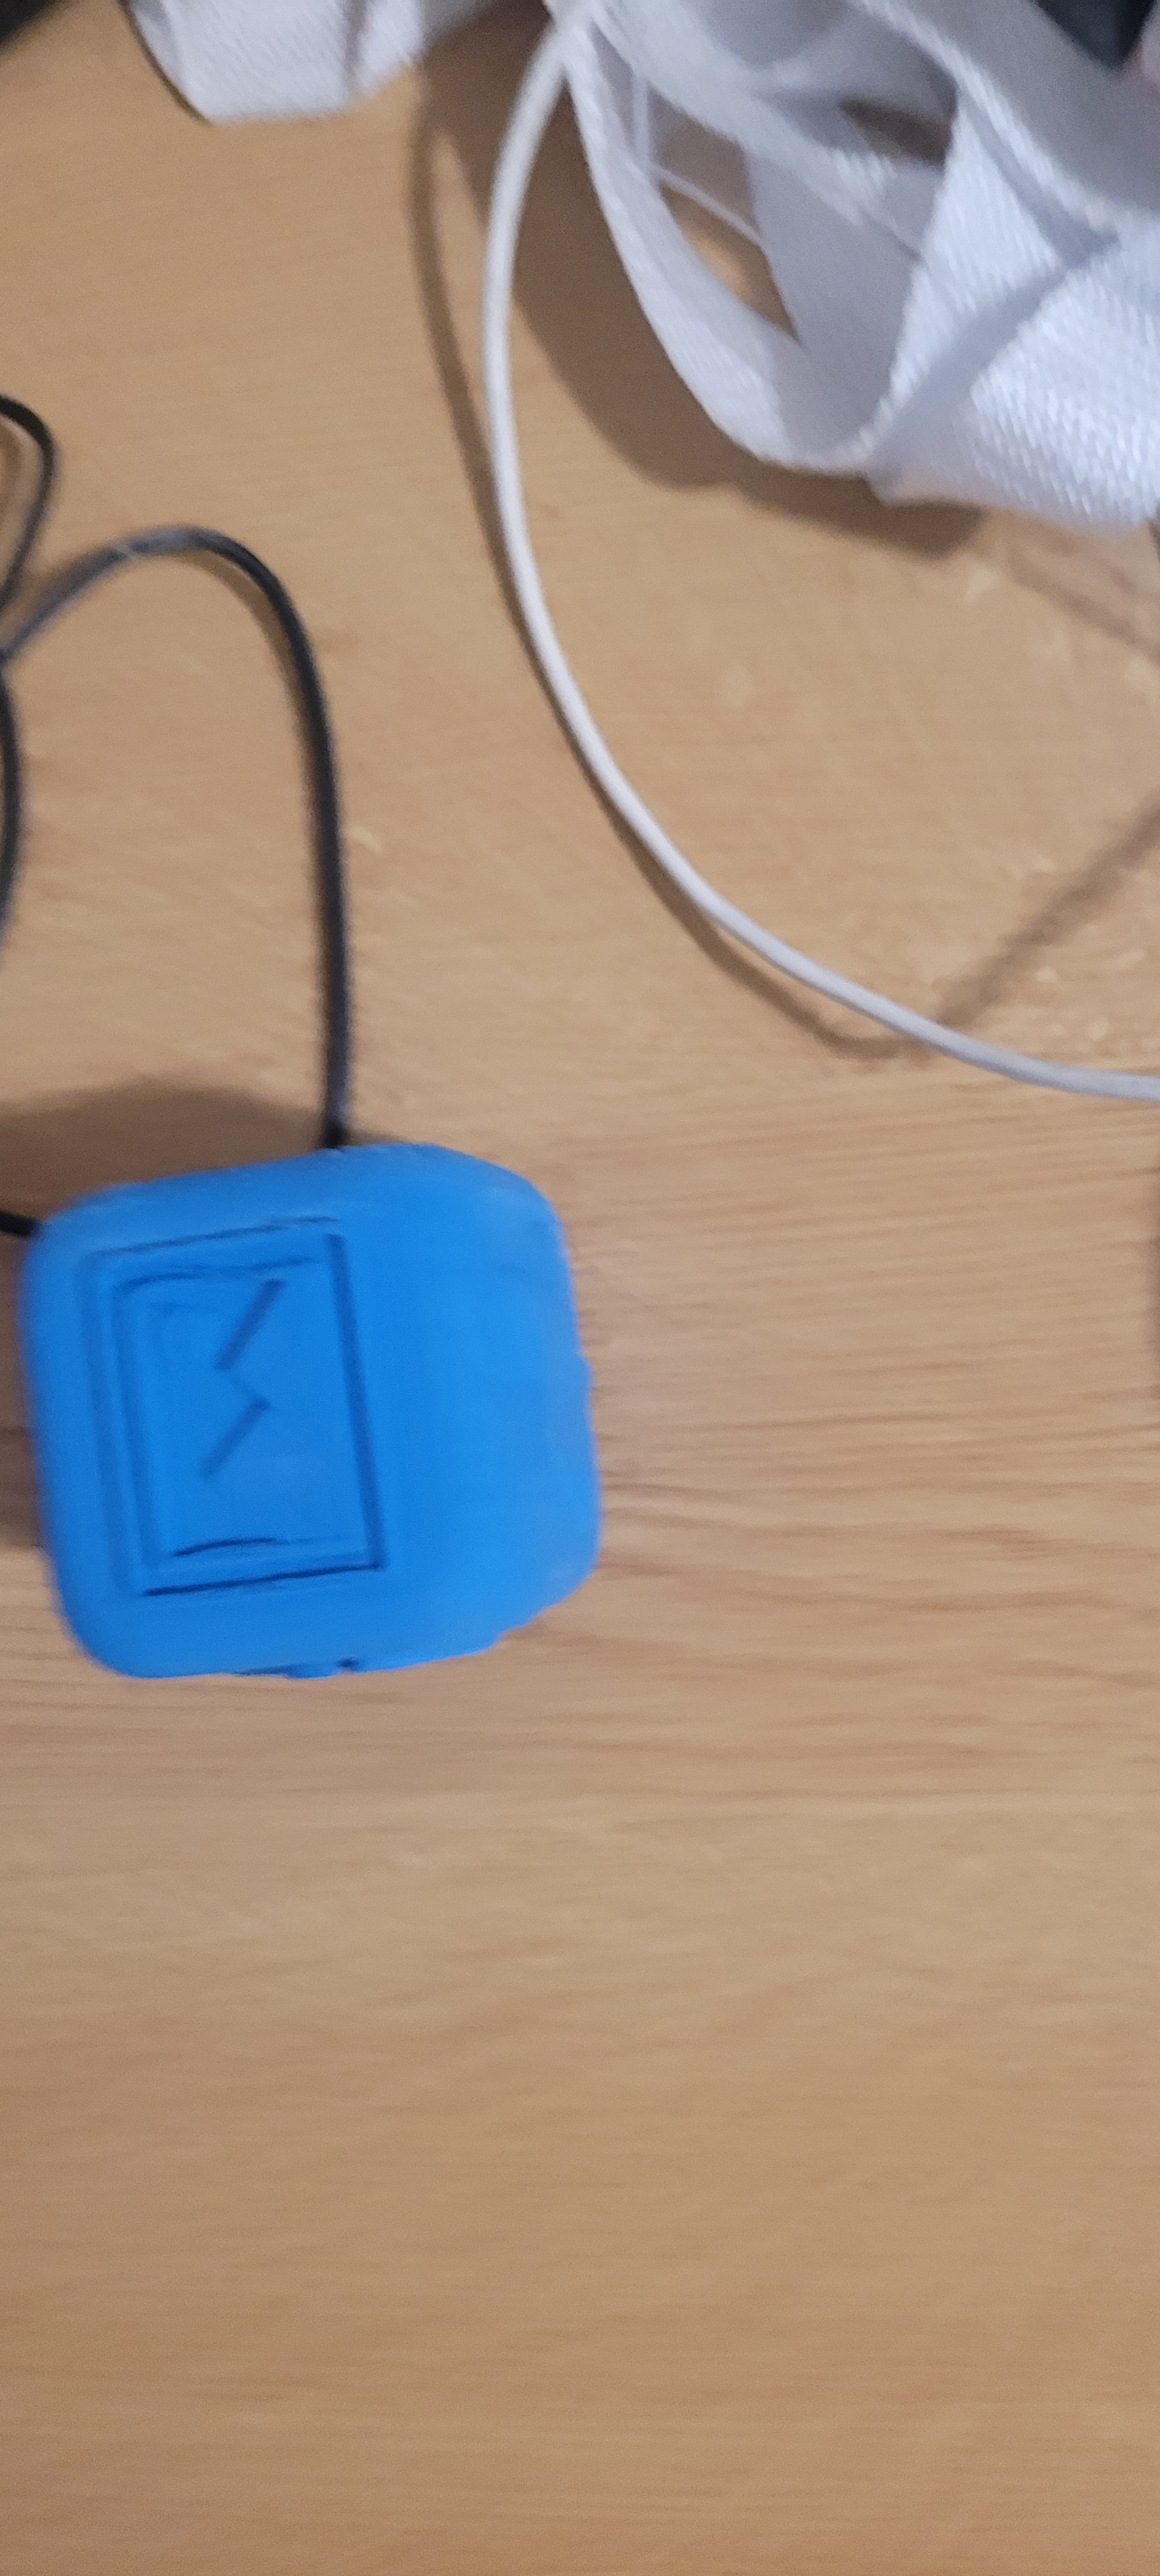Story: (59, 1189, 373, 1633)
